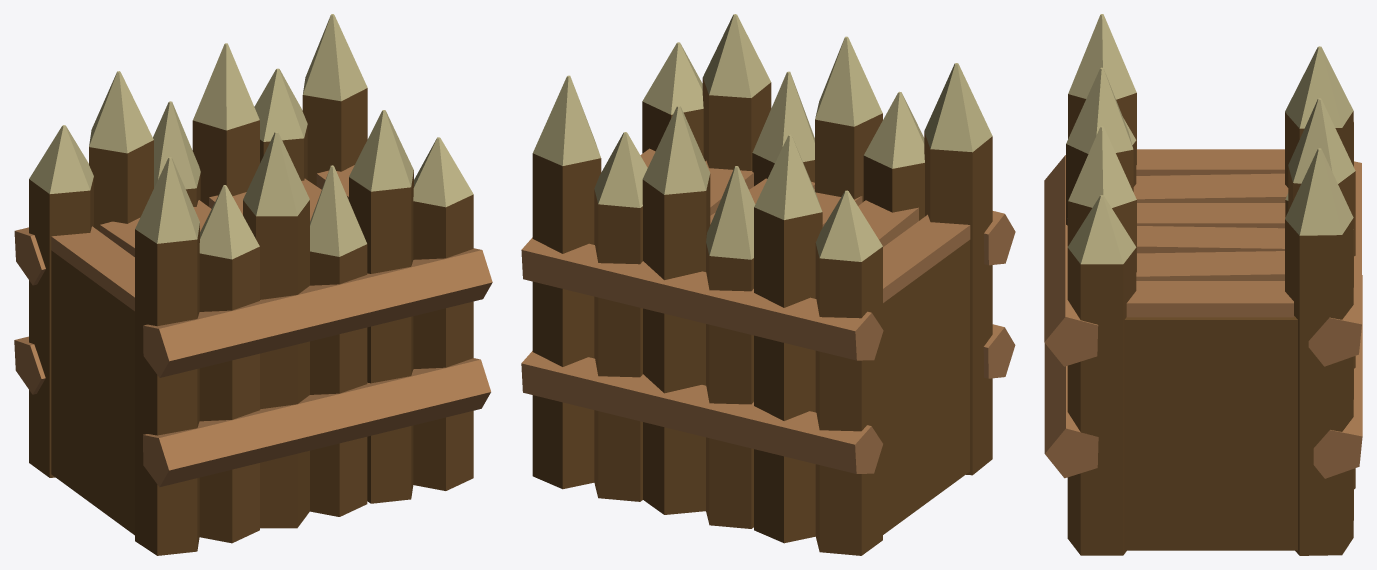
Rendered from WoodenWall3.fbx.
The picture shows the model from 3 angles, left to right: view 1: azimuth 30°, elevation 25°; view 2: azimuth 150°, elevation 25°; view 3: azimuth 270°, elevation 25°; orthographic projection. The views are drawn at different scales.
Parts seen in each view (by area): view 1: Cube.001, Cylinder.012, Cylinder.007, Cylinder.006, Cylinder.000, Cylinder.011, Cylinder.013, Cylinder.010, Cylinder.001, Cylinder.017, Cylinder.003, Cylinder.019 (+7 smaller); view 2: Cube.001, Cylinder.019, Cylinder.003, Cylinder.016, Cylinder.017, Cylinder.009, Cylinder.008, Cylinder.012, Cylinder.002, Cylinder.018, Cylinder.011, Cylinder.000 (+8 smaller); view 3: Cube.006, Cylinder.003, Cylinder.010, Cube.007, Cylinder.007, Cube.004, Cube.000, Cylinder.011, Cylinder.006, Cylinder.000, Cylinder.016, Cube.005 (+6 smaller).
Part boxes in pixels (x1,y1,x2,y2): Cube.001: [51, 250, 134, 535]; Cylinder.012: [135, 157, 199, 555]; Cylinder.007: [143, 248, 492, 377]; Cylinder.006: [143, 358, 490, 487]; Cylinder.000: [243, 131, 309, 528]; Cylinder.011: [349, 110, 413, 503]; Cylinder.013: [199, 185, 259, 543]; Cylinder.010: [413, 137, 473, 490]; Cylinder.001: [310, 165, 367, 516]; Cylinder.017: [29, 125, 93, 477]; Cylinder.003: [302, 14, 367, 185]; Cylinder.019: [192, 43, 259, 206]; Cube.001: [883, 240, 969, 534]; Cylinder.019: [642, 105, 710, 514]; Cylinder.003: [532, 75, 601, 489]; Cylinder.016: [754, 134, 822, 543]; Cylinder.017: [815, 190, 882, 555]; Cylinder.009: [521, 351, 882, 473]; Cylinder.008: [521, 237, 883, 360]; Cylinder.012: [924, 63, 992, 475]; Cylinder.002: [594, 132, 647, 501]; Cylinder.018: [706, 166, 755, 528]; Cylinder.011: [702, 14, 771, 170]; Cylinder.000: [815, 36, 882, 202]; Cube.006: [1124, 316, 1297, 550]; Cylinder.003: [1285, 148, 1353, 555]; Cylinder.010: [1067, 195, 1136, 555]; Cube.007: [1126, 281, 1293, 317]; Cylinder.007: [1044, 155, 1098, 366]; Cube.004: [1133, 173, 1288, 202]; Cube.000: [1136, 251, 1284, 280]; Cylinder.011: [1068, 126, 1136, 272]; Cylinder.006: [1044, 343, 1098, 478]; Cylinder.000: [1066, 67, 1133, 225]; Cylinder.016: [1285, 46, 1353, 187]; Cube.005: [1136, 149, 1284, 175].
Bounding box in the file's own units: 610 × 693 × 507.
